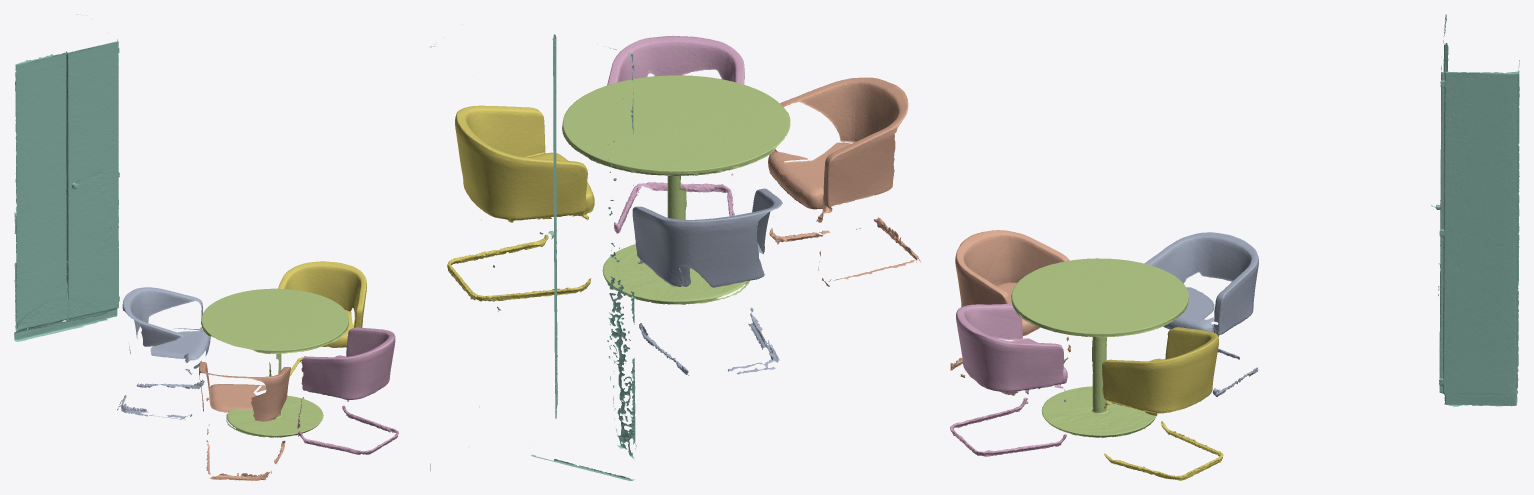
The picture shows the model from 3 angles, left to right: view 1: azimuth 30°, elevation 25°; view 2: azimuth 150°, elevation 25°; view 3: azimuth 270°, elevation 25°; orthographic projection. The views are drawn at different scales.
Visible parts, largest first — view 1: target_0_0, target_4_0, target_3_0, target_2_0, target_1_0, target_5_0; view 2: target_4_0, target_5_0, target_1_0, target_2_0, target_3_0, target_0_0; view 3: target_0_0, target_4_0, target_3_0, target_5_0, target_2_0, target_1_0.
Boxes of the visible parts, x1=… form: target_0_0: x1=14, y1=14, x2=119, y2=341; target_4_0: x1=201, y1=288, x2=348, y2=437; target_3_0: x1=297, y1=327, x2=398, y2=454; target_2_0: x1=117, y1=287, x2=210, y2=420; target_1_0: x1=199, y1=362, x2=290, y2=480; target_5_0: x1=278, y1=261, x2=366, y2=376; target_4_0: x1=562, y1=75, x2=790, y2=304; target_5_0: x1=447, y1=105, x2=594, y2=301; target_1_0: x1=768, y1=77, x2=920, y2=286; target_2_0: x1=632, y1=188, x2=782, y2=375; target_3_0: x1=607, y1=35, x2=744, y2=233; target_0_0: x1=430, y1=34, x2=636, y2=480; target_0_0: x1=1431, y1=14, x2=1519, y2=406; target_4_0: x1=1011, y1=258, x2=1188, y2=437; target_3_0: x1=950, y1=304, x2=1067, y2=456; target_5_0: x1=1102, y1=327, x2=1223, y2=480; target_2_0: x1=1144, y1=232, x2=1258, y2=396; target_1_0: x1=950, y1=230, x2=1070, y2=395.
Bounding box in the file's own units: 0.5401 × 0.6289 × 0.9525.
